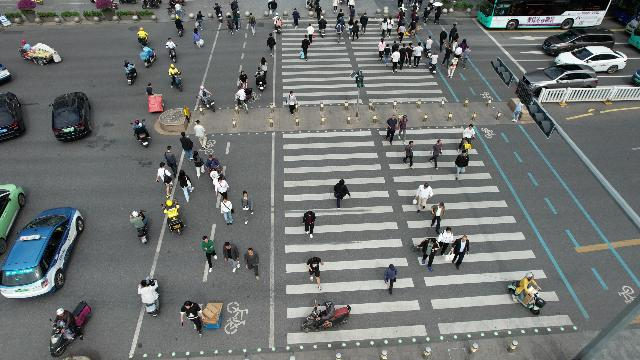non-motor-vehicle: (294, 298, 356, 334), (506, 274, 554, 318), (49, 301, 92, 345), (17, 42, 67, 66), (136, 276, 164, 318), (123, 209, 153, 246), (161, 201, 183, 235), (458, 122, 478, 152), (206, 154, 226, 182), (132, 121, 150, 148), (232, 86, 248, 116), (166, 66, 184, 92), (163, 36, 180, 62), (140, 48, 156, 68), (125, 64, 138, 86), (136, 28, 150, 46), (174, 15, 186, 36), (212, 2, 224, 23), (317, 16, 328, 38), (422, 35, 433, 57), (255, 72, 267, 92), (228, 0, 242, 16), (408, 19, 418, 40), (429, 52, 438, 74), (274, 17, 284, 34), (424, 4, 432, 24), (202, 98, 216, 109)
person: (178, 298, 226, 338), (411, 233, 442, 273), (444, 233, 474, 271), (303, 256, 329, 292), (332, 177, 354, 213), (222, 239, 242, 275), (154, 162, 173, 198), (200, 235, 218, 273), (240, 189, 258, 226), (162, 142, 180, 178), (144, 82, 164, 114), (245, 246, 262, 282), (178, 170, 196, 202), (237, 70, 256, 100), (430, 201, 448, 231), (430, 138, 446, 170), (176, 132, 194, 160), (414, 183, 434, 207), (195, 120, 211, 148), (438, 227, 460, 247), (382, 264, 400, 288), (303, 210, 317, 240), (218, 198, 234, 224), (456, 148, 469, 180), (386, 114, 398, 144), (192, 26, 205, 52), (446, 53, 459, 79), (192, 150, 204, 178), (398, 114, 409, 144), (214, 180, 230, 200), (300, 33, 310, 62), (286, 90, 298, 114), (248, 11, 260, 35), (404, 143, 416, 165), (334, 20, 344, 46), (360, 10, 370, 36), (413, 42, 422, 70), (400, 42, 408, 72), (290, 6, 300, 30), (378, 16, 388, 38), (433, 2, 443, 24), (443, 43, 452, 67), (306, 22, 316, 43), (392, 47, 400, 73), (266, 34, 276, 54), (438, 27, 446, 52), (232, 12, 242, 32), (464, 44, 471, 68), (414, 12, 422, 32), (226, 14, 234, 34), (354, 20, 361, 42), (176, 1, 184, 19), (338, 15, 346, 33), (378, 38, 384, 62), (456, 43, 462, 67), (460, 36, 468, 54), (348, 18, 354, 40), (384, 44, 390, 66), (387, 16, 393, 38), (257, 57, 267, 69), (316, 2, 322, 22), (450, 22, 456, 42), (453, 32, 459, 52), (399, 23, 405, 43), (408, 42, 412, 70), (197, 11, 206, 23), (349, 6, 356, 20), (391, 40, 399, 52), (398, 9, 404, 23), (398, 20, 402, 36), (338, 9, 344, 19)
